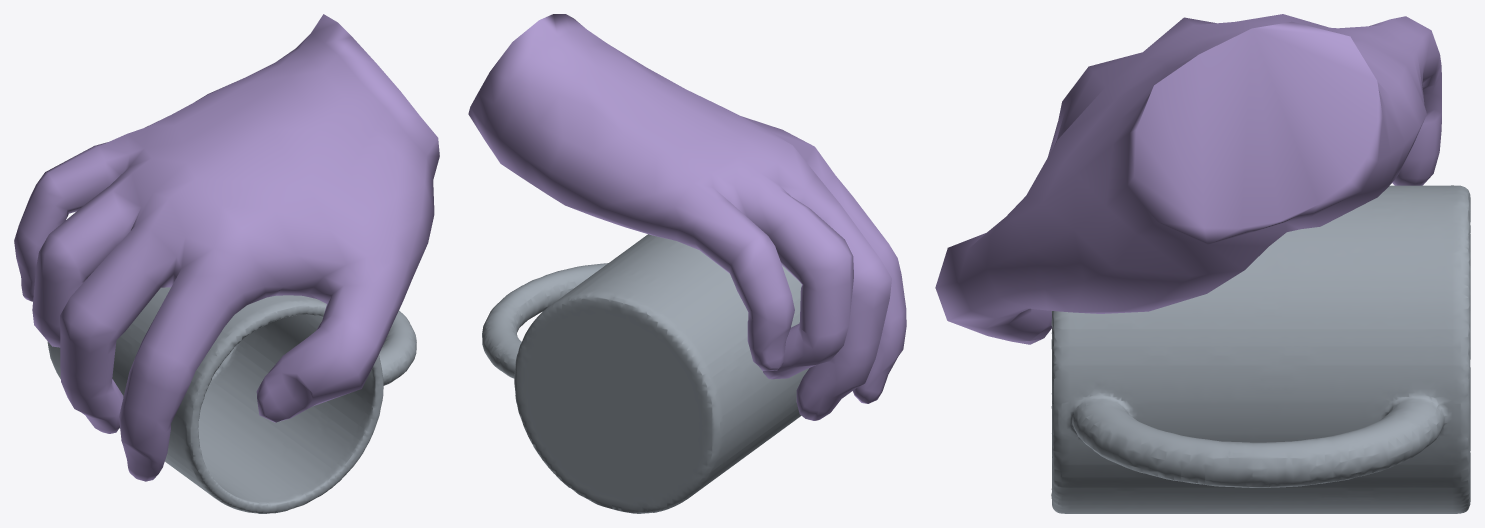
The model's file is ours_2.glb.
3 views of the same model, side by side, from view 1: azimuth 30°, elevation 25°; view 2: azimuth 150°, elevation 25°; view 3: azimuth 270°, elevation 25° (orthographic). The views are drawn at different scales.
Size of the model in its own units: 0.1518 by 0.1577 by 0.134.
